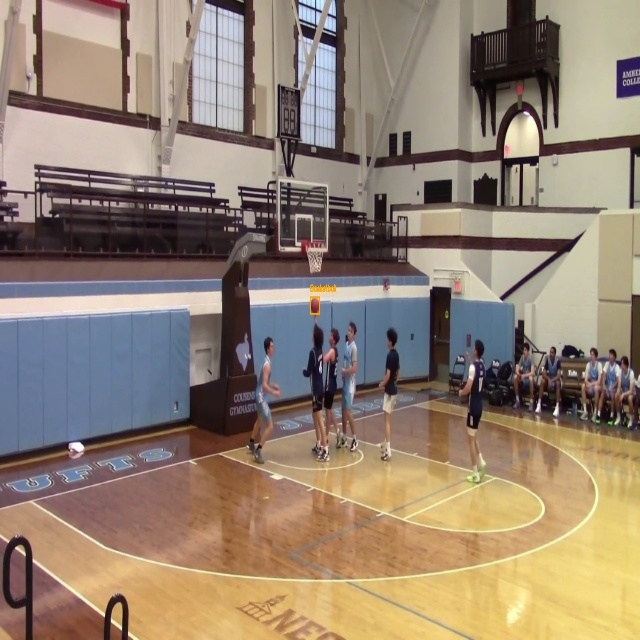Basketball: (310, 297, 319, 314)
